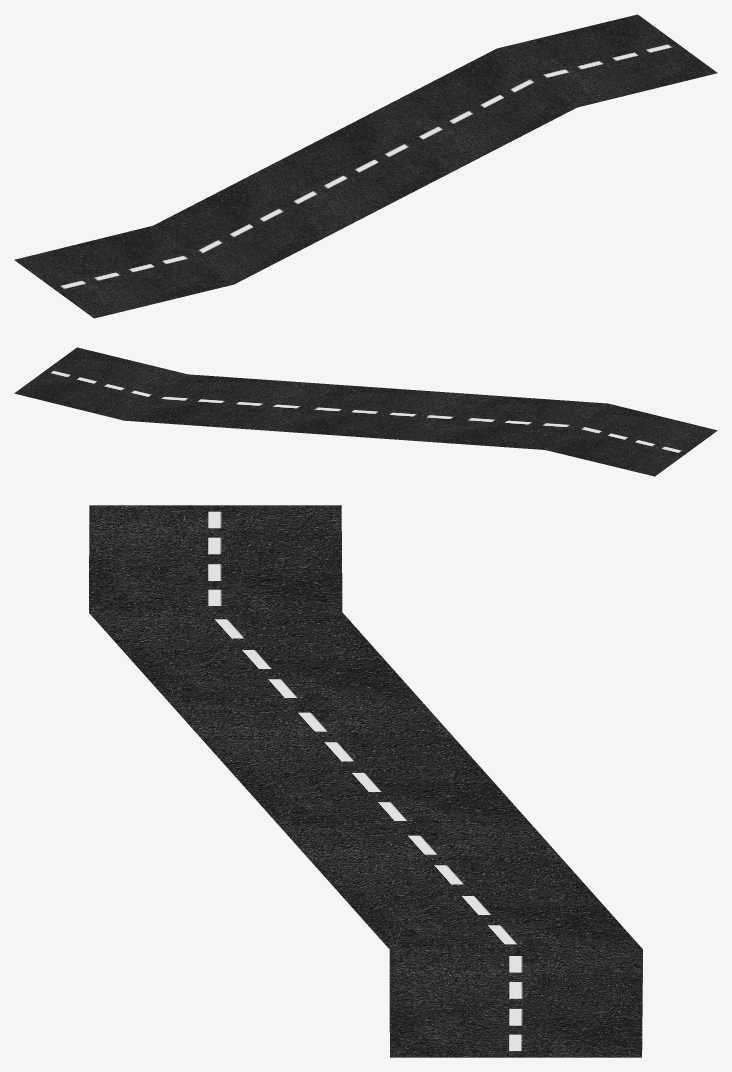
The model's file is custom_road_piece.FBX.
The picture shows the model from 3 angles, top to bottom: view 1: azimuth 30°, elevation 25°; view 2: azimuth 150°, elevation 25°; view 3: azimuth 270°, elevation 25°; orthographic projection. The views are drawn at different scales.
Parts seen in each view (by area): view 1: Plane02; view 2: Plane02; view 3: Plane02.
Part boxes in pixels (x1,y1,x2,y2): Plane02: (14,14,717,318); Plane02: (14,347,717,476); Plane02: (89,505,642,1057).
Bounding box in the file's own units: 234 × 99.34 × 0.
